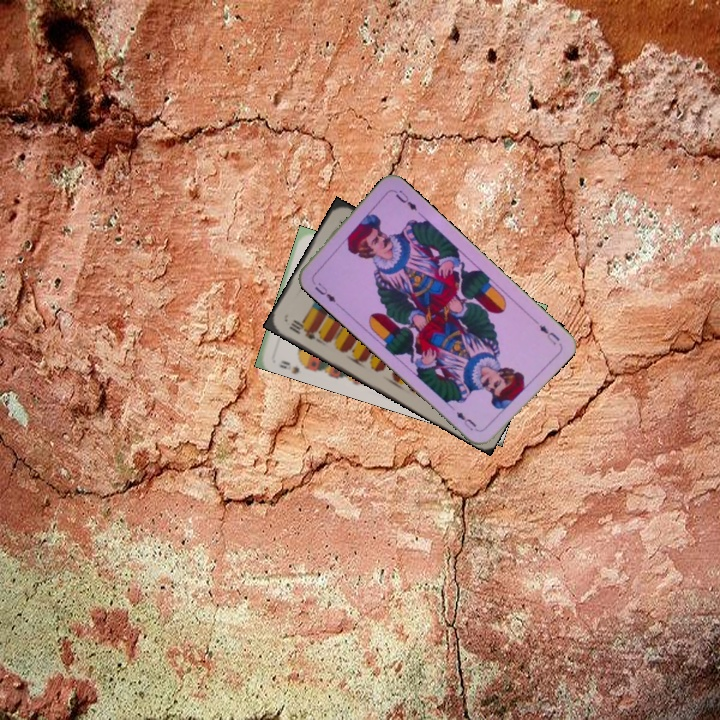E10: (285, 316, 318, 342)
EU: (308, 276, 341, 307), (535, 321, 562, 348)
S9: (277, 355, 311, 372)
